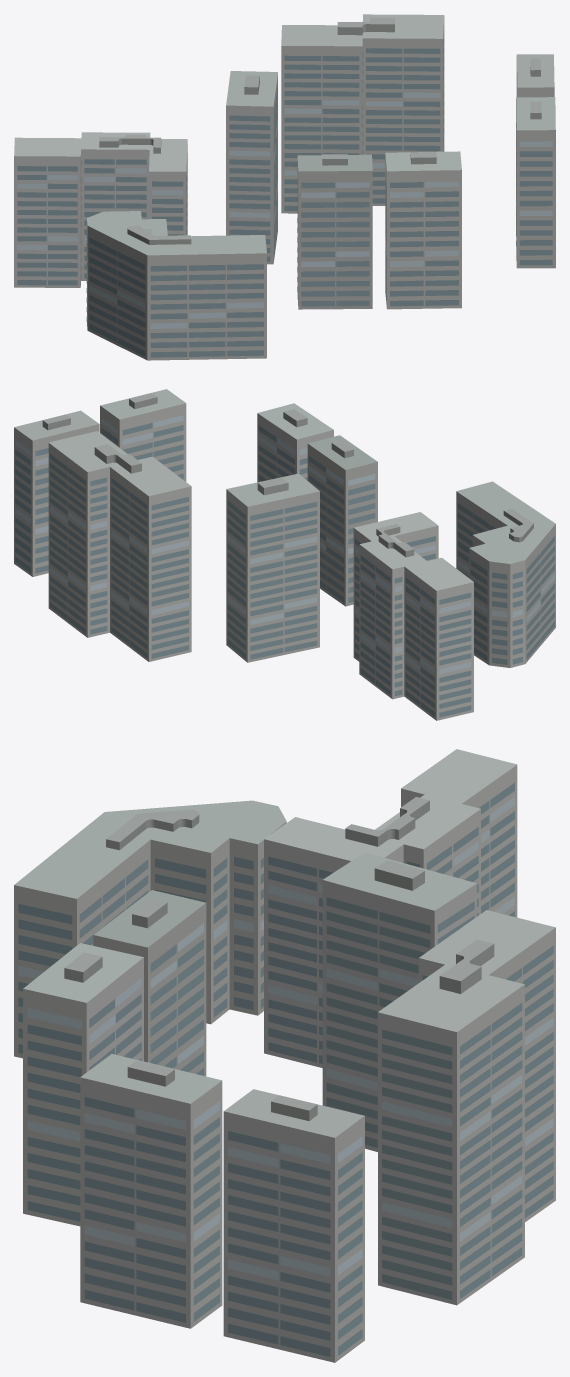
Rendered from apt-a15783907.glb.
The picture shows the model from 3 angles, top to bottom: view 1: azimuth 30°, elevation 25°; view 2: azimuth 150°, elevation 25°; view 3: azimuth 270°, elevation 25°; orthographic projection. The views are drawn at different scales.
Parts seen in each view (by area): view 1: apt-a15783907; view 2: apt-a15783907; view 3: apt-a15783907.
Boxes of the visible parts, x1,y1,x2,y2 form: apt-a15783907: (14,14,555,360); apt-a15783907: (14,389,555,720); apt-a15783907: (14,749,555,1362).
Size of the model in its own units: 153 by 51 by 87.59.
